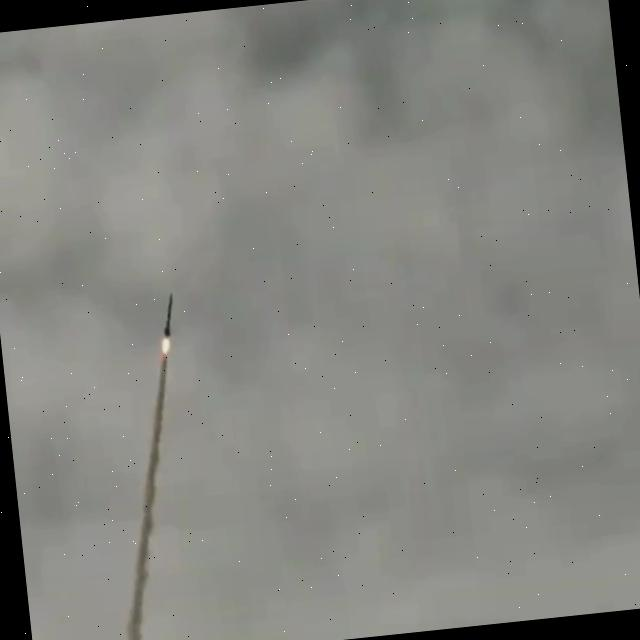smoke_trail_with_rocket: (126, 294, 173, 640)
